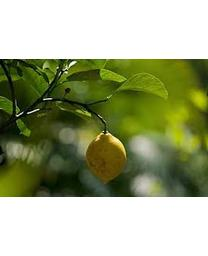lemon: (87, 131, 127, 185)
